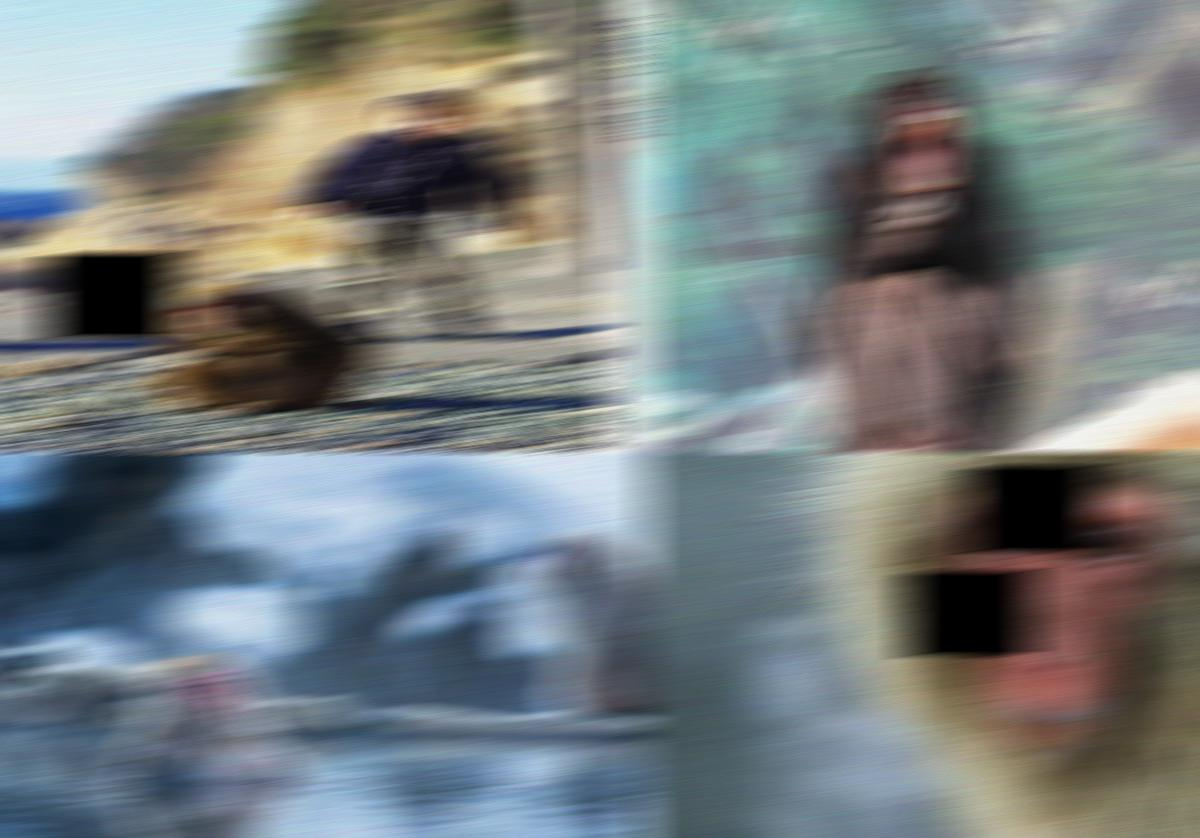Macaca fuscata: (791, 453, 1200, 837), (158, 277, 382, 415), (122, 657, 314, 797), (526, 532, 656, 733)
chimpanzee: (800, 66, 1031, 451)
human: (283, 92, 531, 342)
